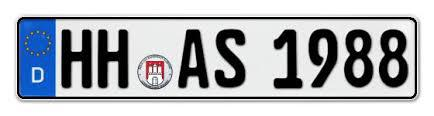1: (273, 29, 303, 89)
8: (378, 29, 410, 88), (343, 29, 374, 89)
9: (307, 28, 339, 88)
A: (176, 29, 210, 88)
H: (59, 28, 94, 90), (97, 28, 130, 90)
S: (212, 28, 250, 88)
